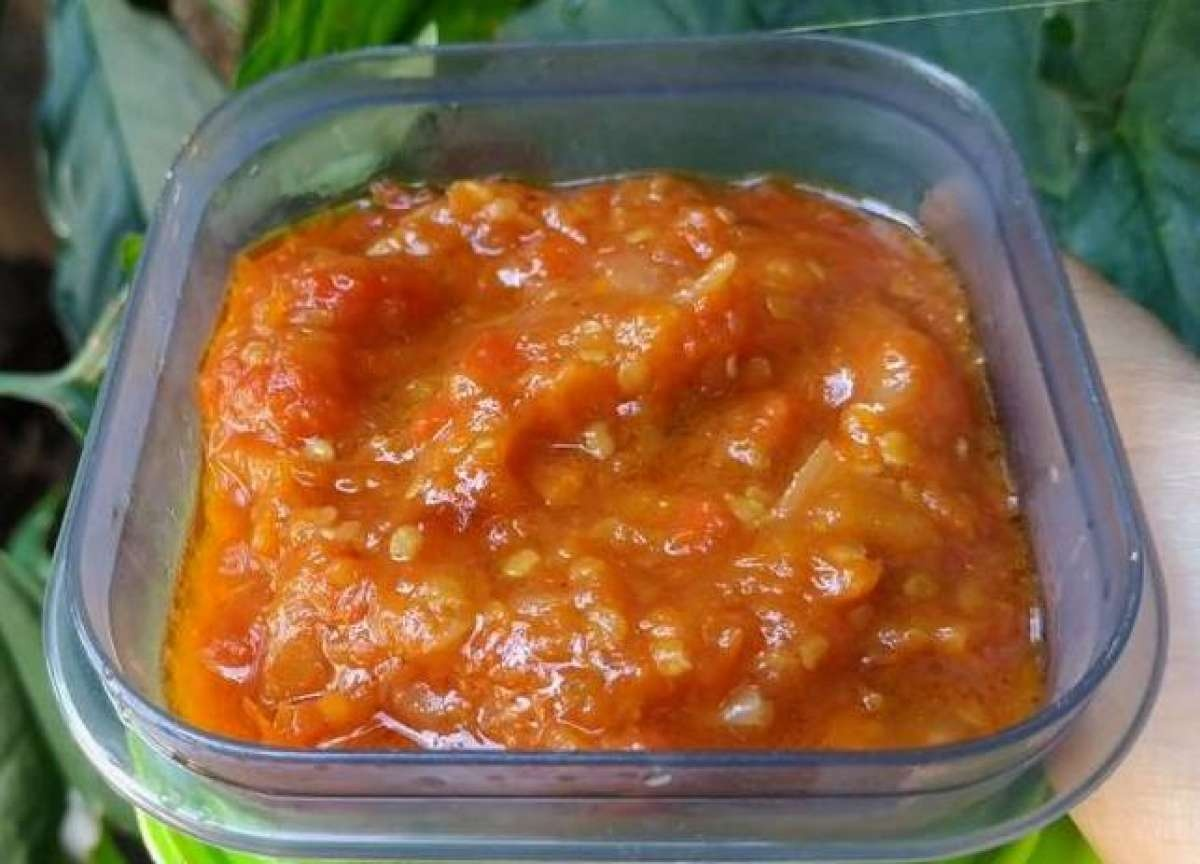sambal: (193, 158, 1022, 749)
